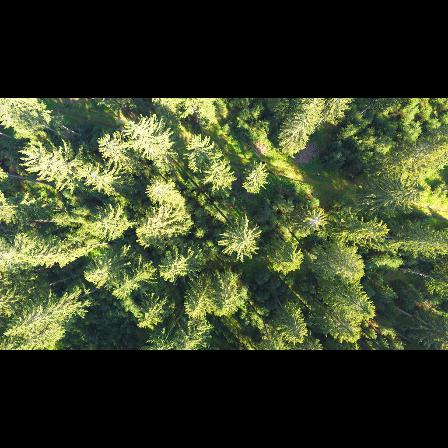Sick: (300, 207, 328, 231)
